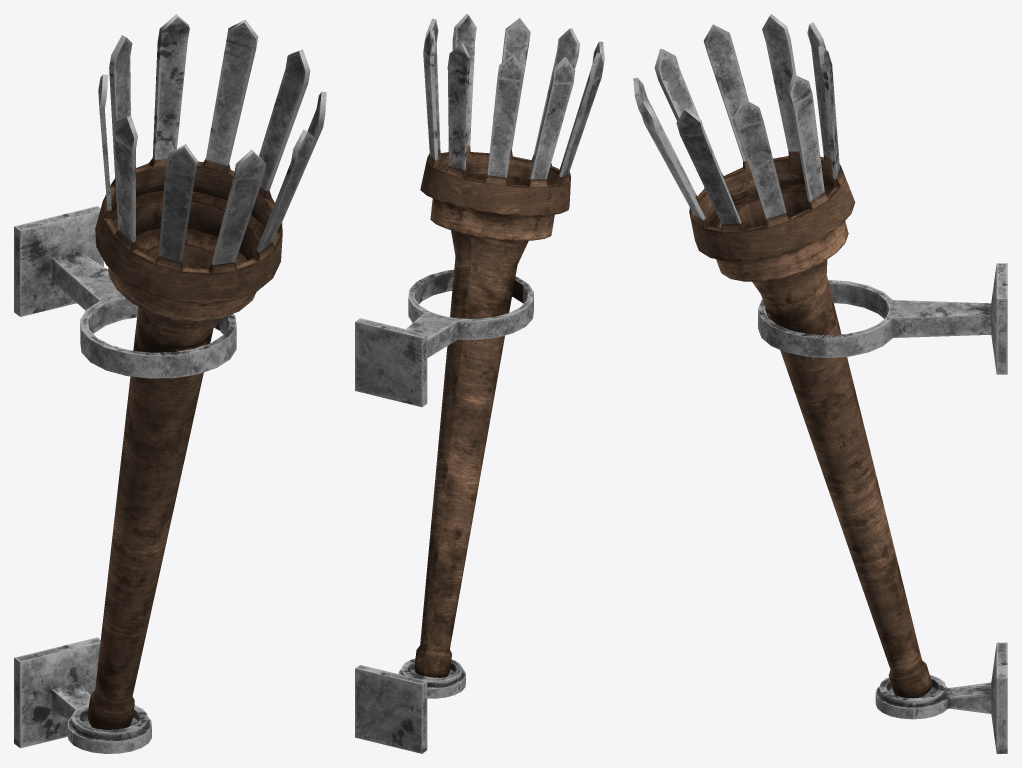
3 views of the same model, side by side, from view 1: azimuth 30°, elevation 25°; view 2: azimuth 150°, elevation 25°; view 3: azimuth 270°, elevation 25° (orthographic). The views are drawn at different scales.
Parts seen in each view (by area): view 1: coffin___graves:Torch_low, coffin___graves:Torch_base_low_coffin___graves:StingrayPBS1_; view 2: coffin___graves:Torch_low, coffin___graves:Torch_base_low_coffin___graves:StingrayPBS1_; view 3: coffin___graves:Torch_low, coffin___graves:Torch_base_low_coffin___graves:StingrayPBS1_.
Boxes of the visible parts, x1,y1,x2,y2 form: coffin___graves:Torch_low: (87, 14, 326, 729); coffin___graves:Torch_base_low_coffin___graves:StingrayPBS1_: (14, 206, 236, 753); coffin___graves:Torch_low: (414, 14, 604, 677); coffin___graves:Torch_base_low_coffin___graves:StingrayPBS1_: (355, 269, 533, 753); coffin___graves:Torch_low: (633, 14, 931, 698); coffin___graves:Torch_base_low_coffin___graves:StingrayPBS1_: (758, 263, 1007, 753).
Size of the model in its own units: 5.92 by 22.74 by 11.07.
Materials: 1 (1 with a texture image).
